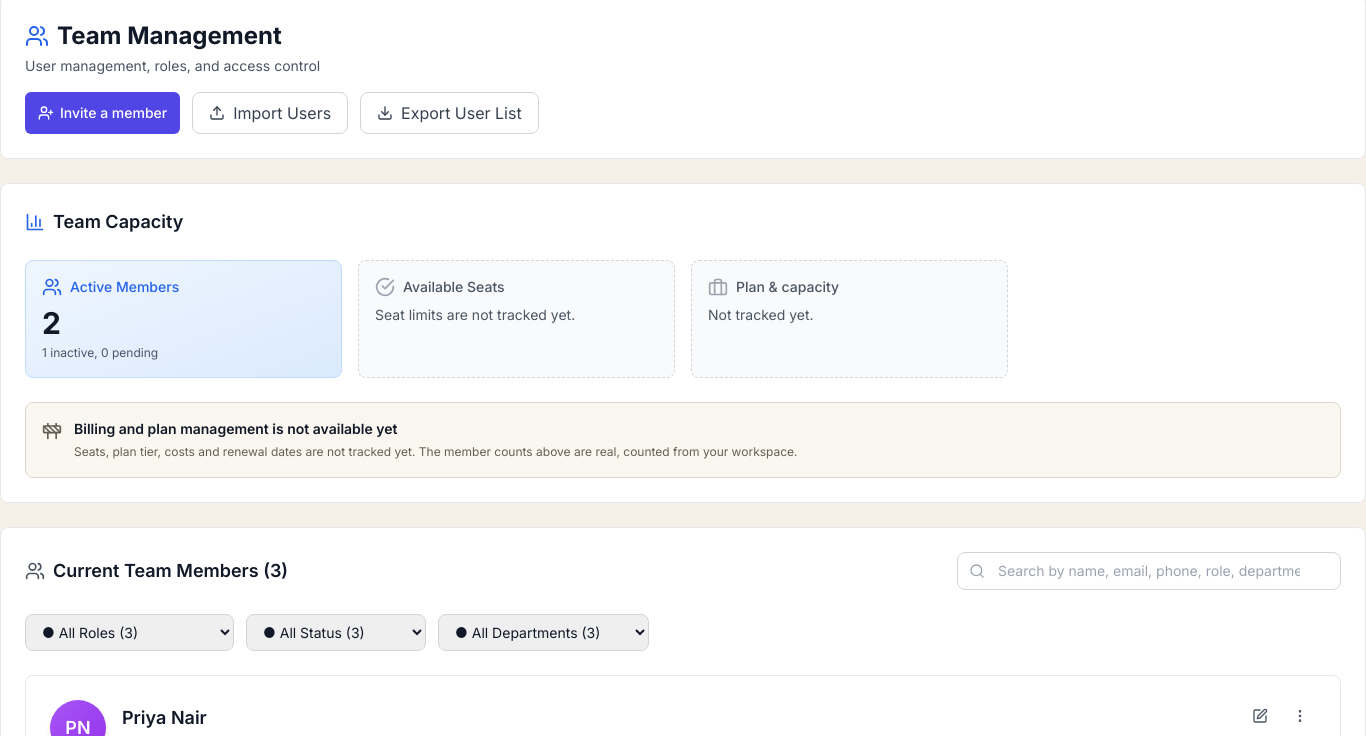
Test case: TeamManagement — invite › says NO EMAIL WAS SENT and shows the real link, rather than implying delivery
Check: the heading "Priya Nair" is shown, box [122, 704, 207, 732]
Click the button "Invite a member" at (103, 113), box [25, 92, 180, 134]
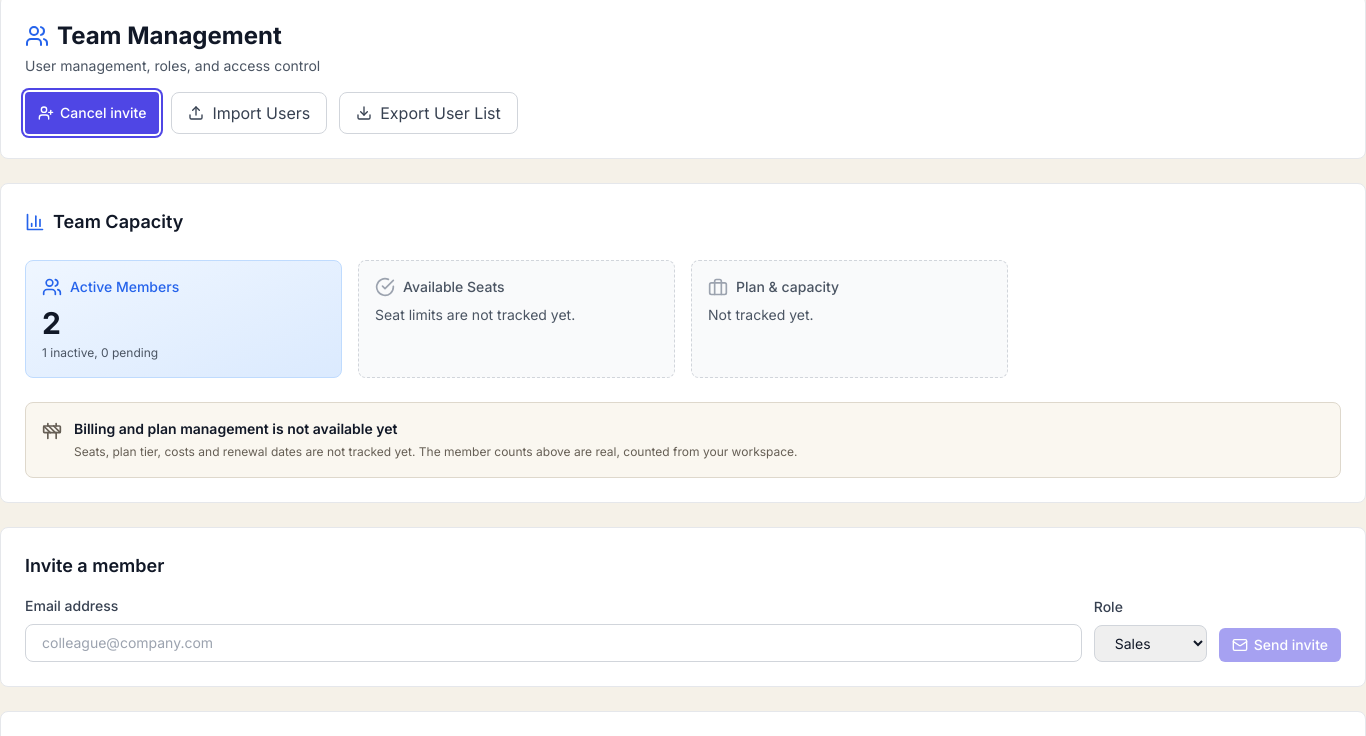
Type "new@example.com" into the field labelled "Email address" at (553, 643), box [25, 624, 1082, 662]
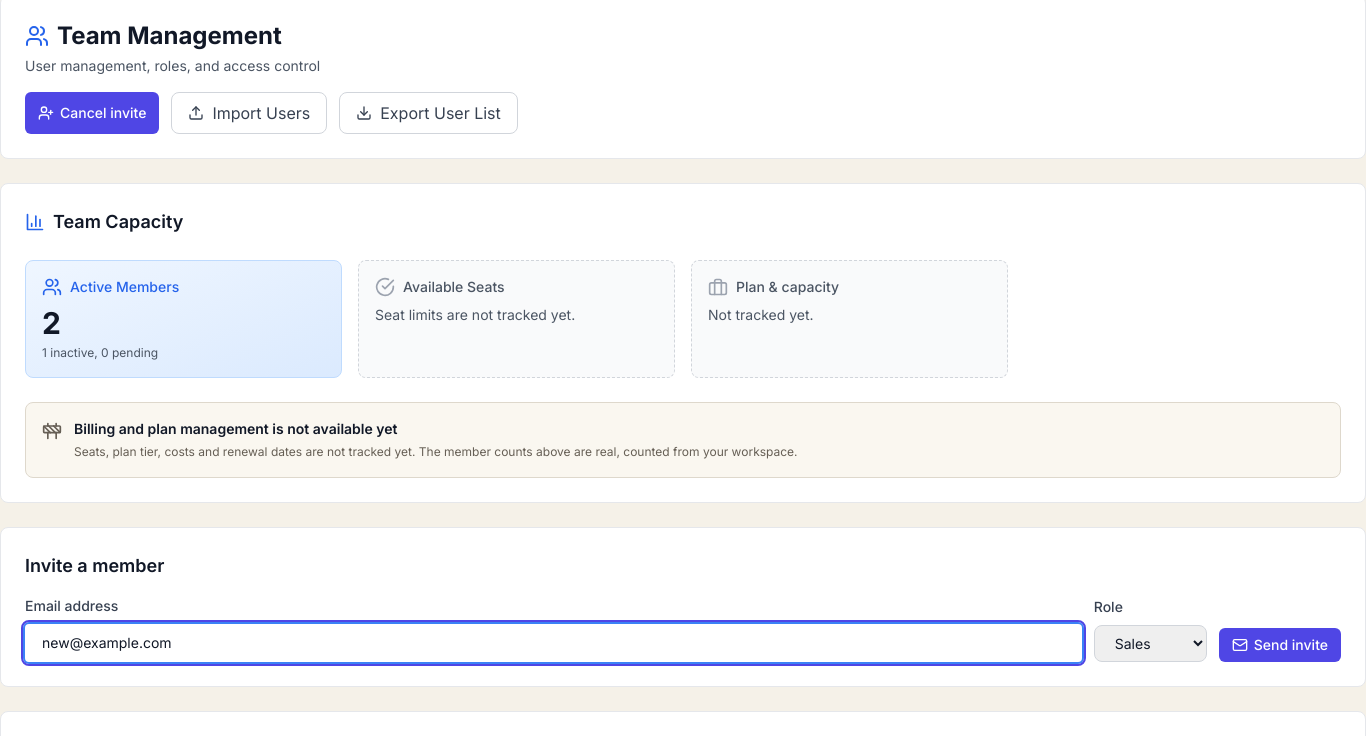
Click the button "Send invite" at (1280, 645), box [1219, 628, 1341, 662]
(page scrolled)
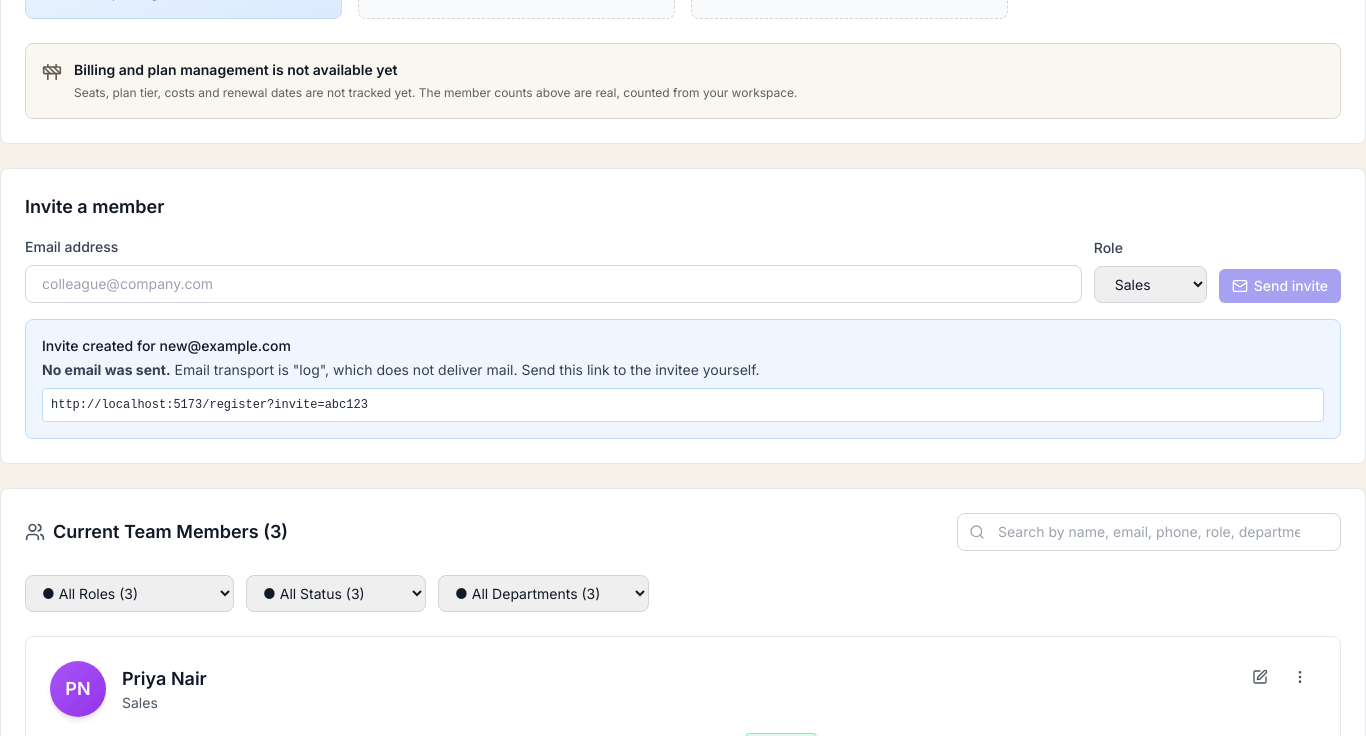
Check: the message shows "Invite created for new@example.com", box [25, 319, 1341, 439]
Check: the message shows "No email was sent", box [42, 361, 171, 378]
Check: the message shows "does not deliver mail", box [174, 361, 760, 378]
